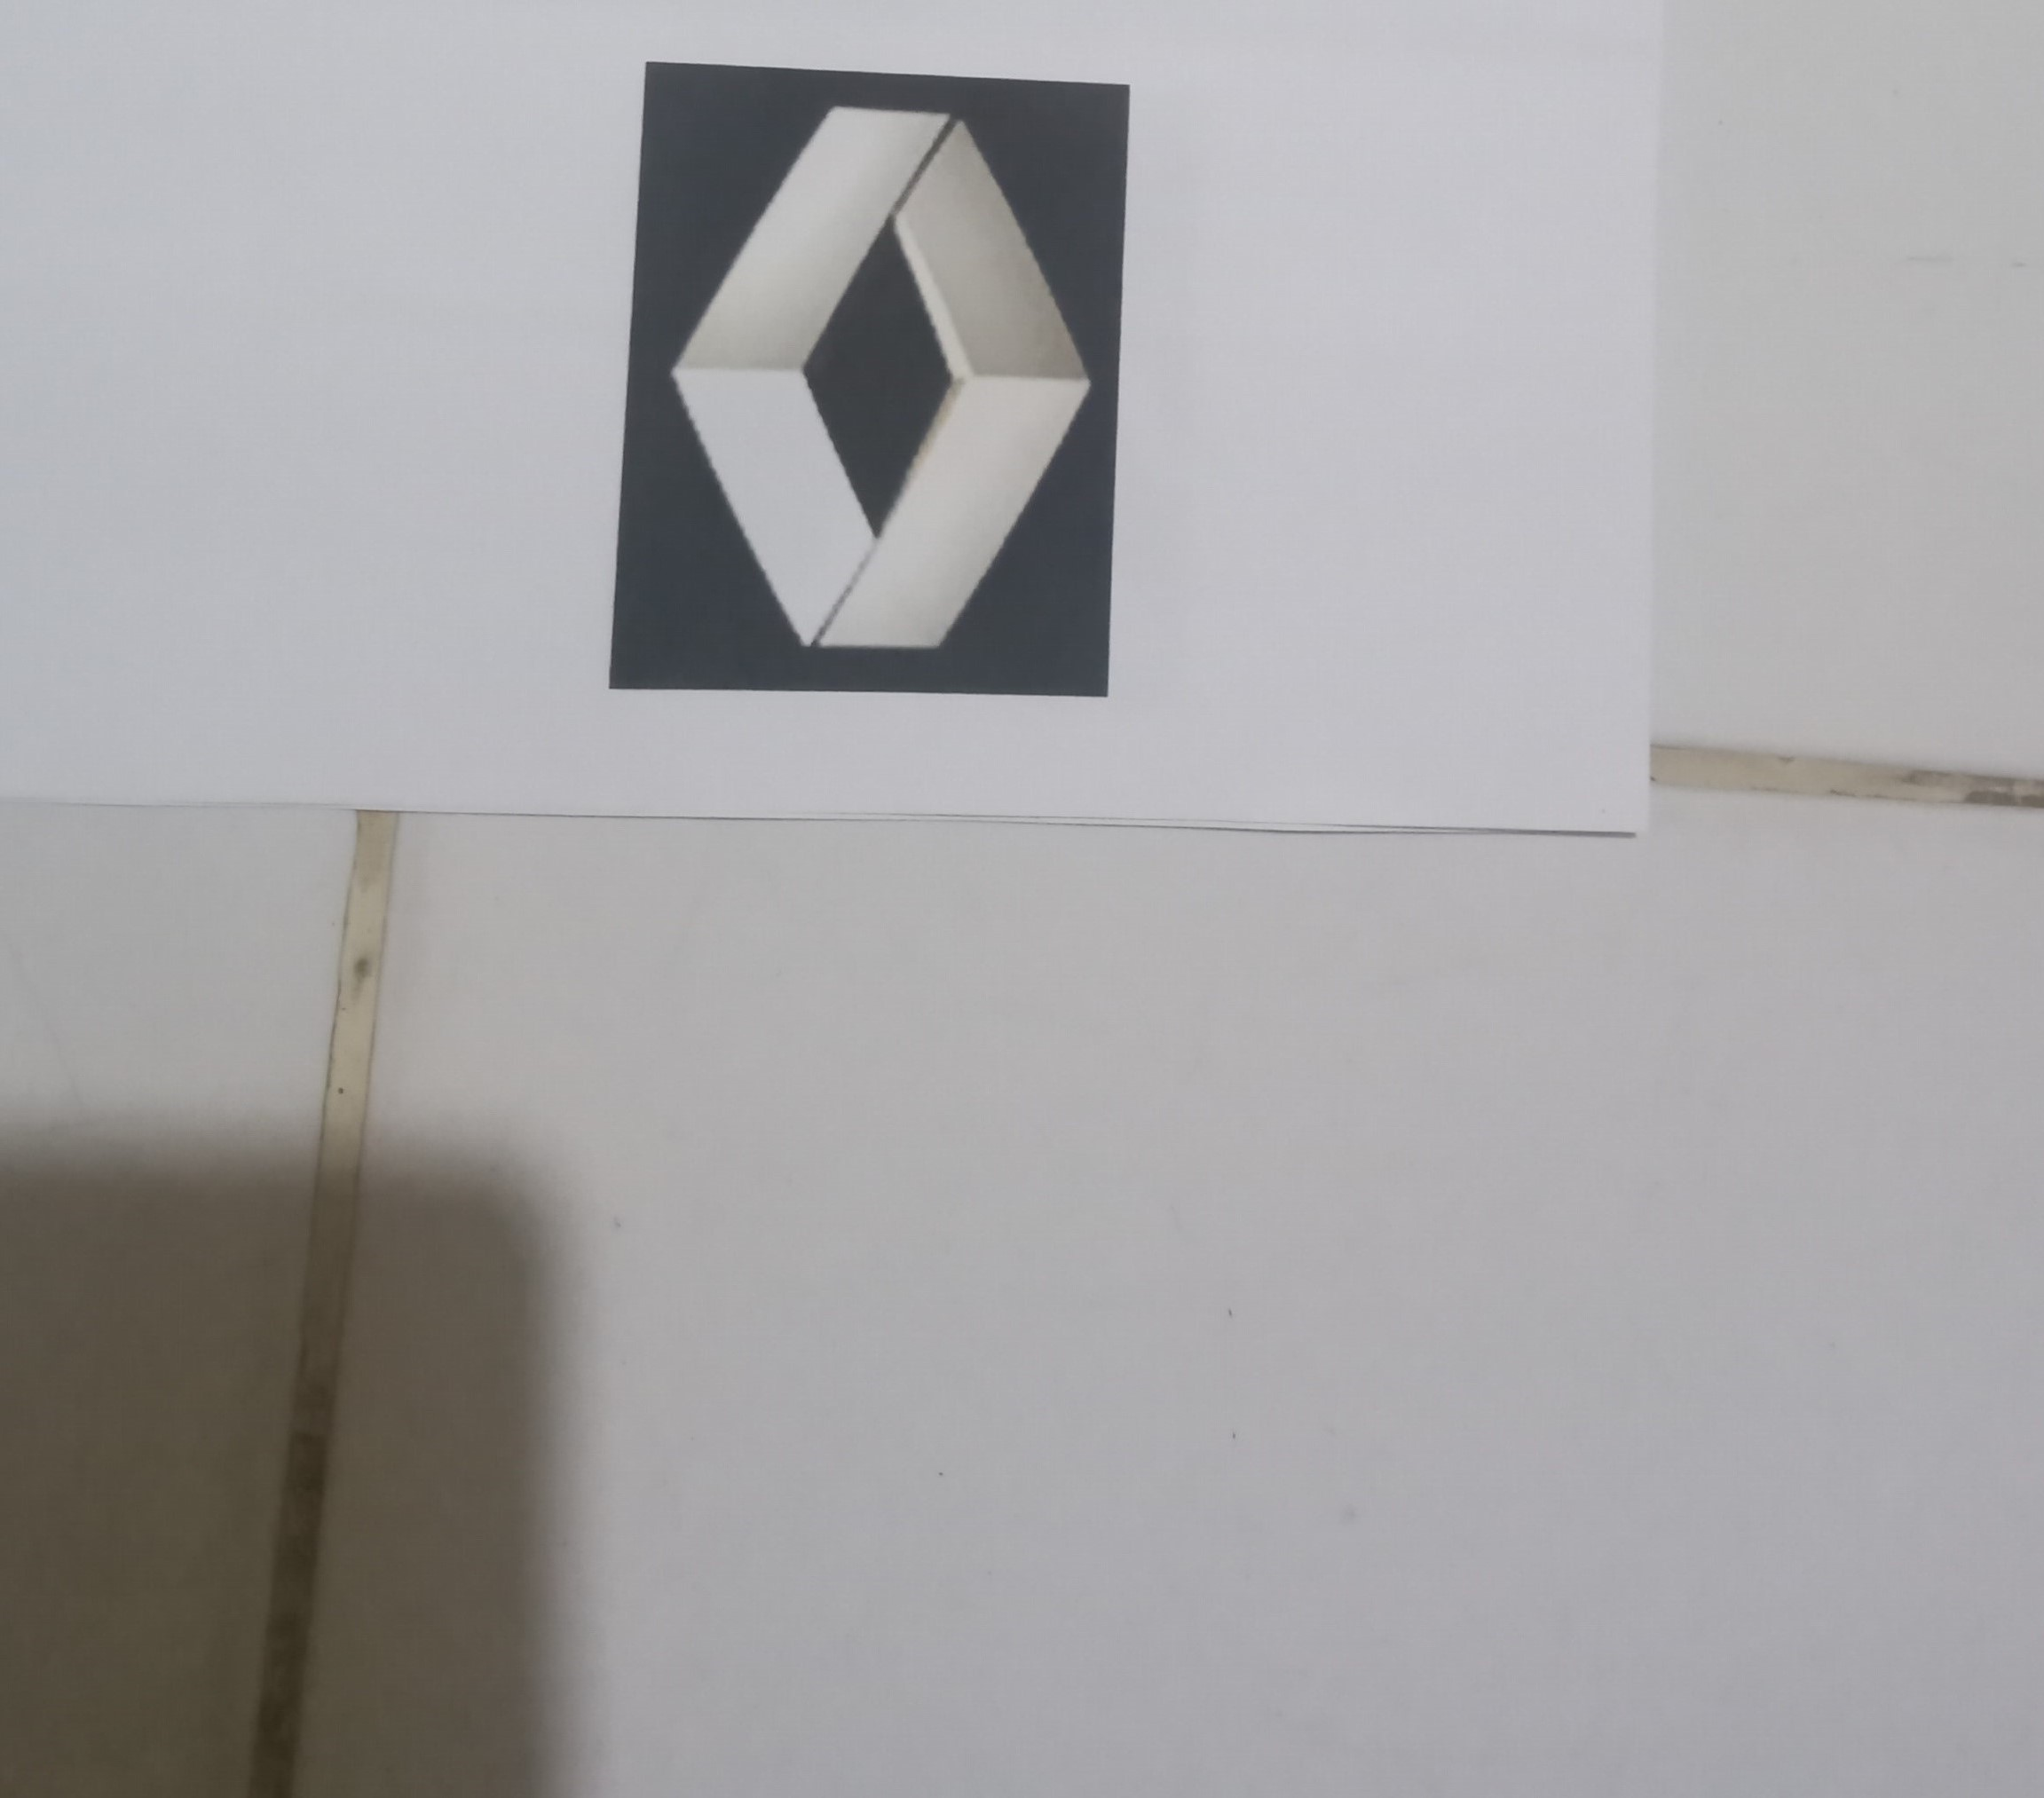Renault: (638, 82, 1102, 671)
